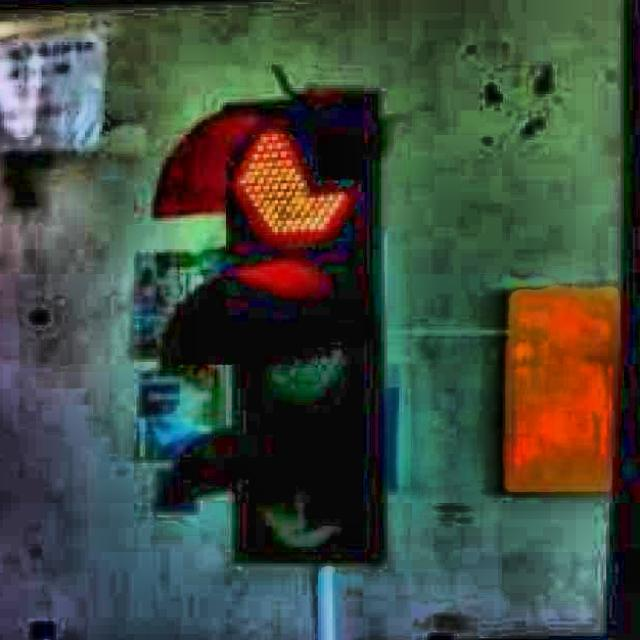red: (206, 94, 380, 574)
